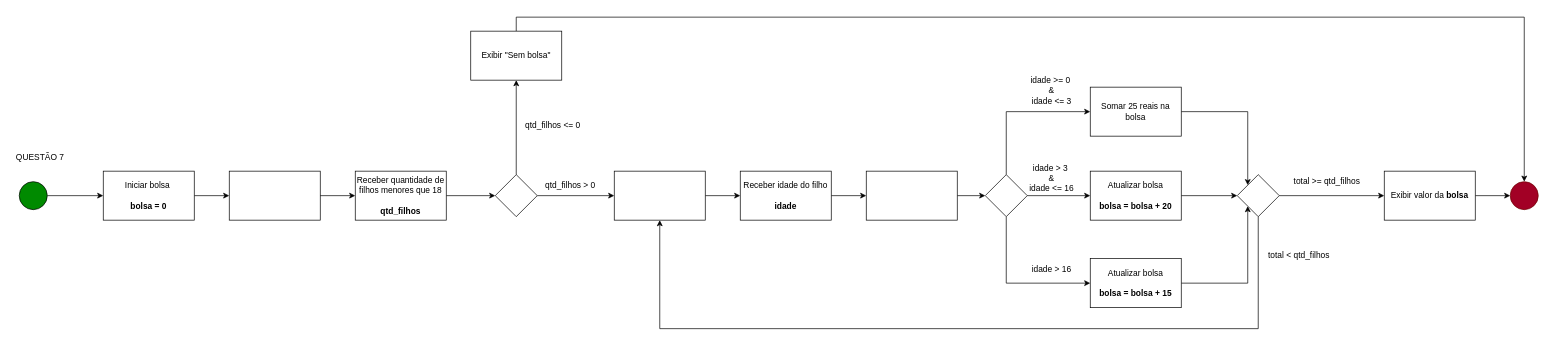
The diagram is 1551 pixels wide and 347 high, and some of its shapes have lost their labels. Each missing label, with the box of its shape:
Atualizar quantidade de filho restante total = total + 1: (866, 170, 957, 220)
Iniciar contador de totais de filhos total = 0: (229, 170, 320, 220)
Receber nome do filho nome: (614, 170, 705, 220)
